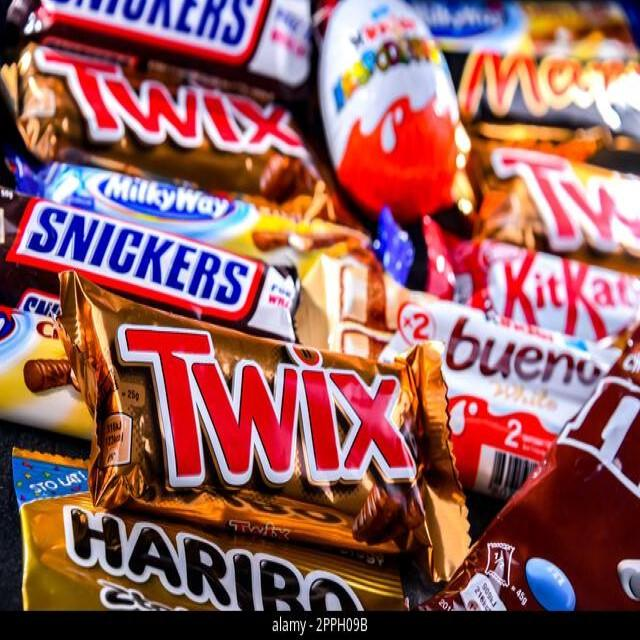snickers_chocolate: (12, 203, 295, 315)
